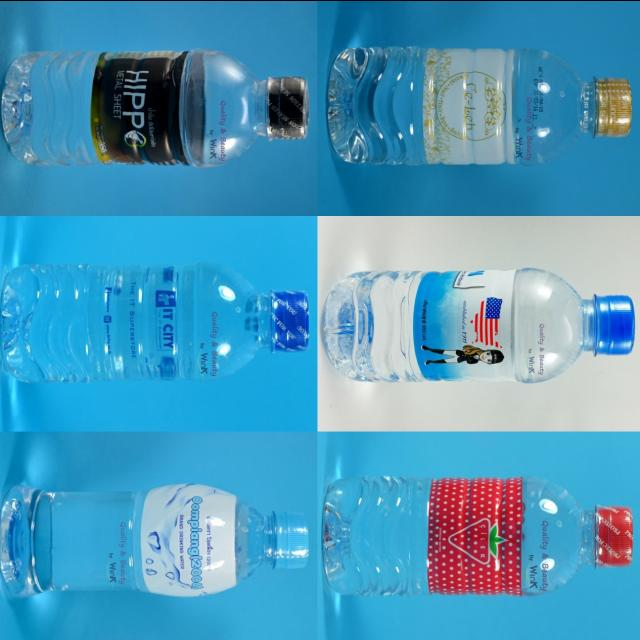plastik: (324, 476, 633, 596), (1, 262, 308, 382), (327, 46, 632, 165), (1, 49, 308, 166), (323, 267, 635, 382), (0, 483, 308, 596)
